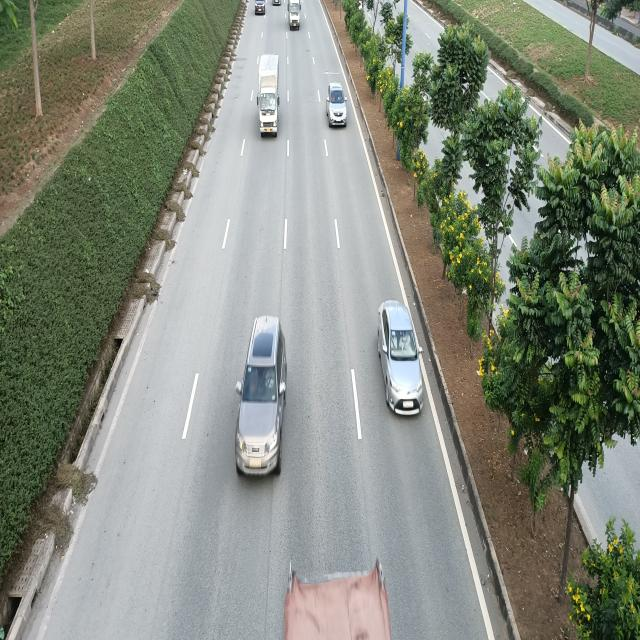car: (236, 314, 288, 475), (376, 300, 420, 413), (326, 82, 347, 126)
truck: (257, 53, 282, 137)
